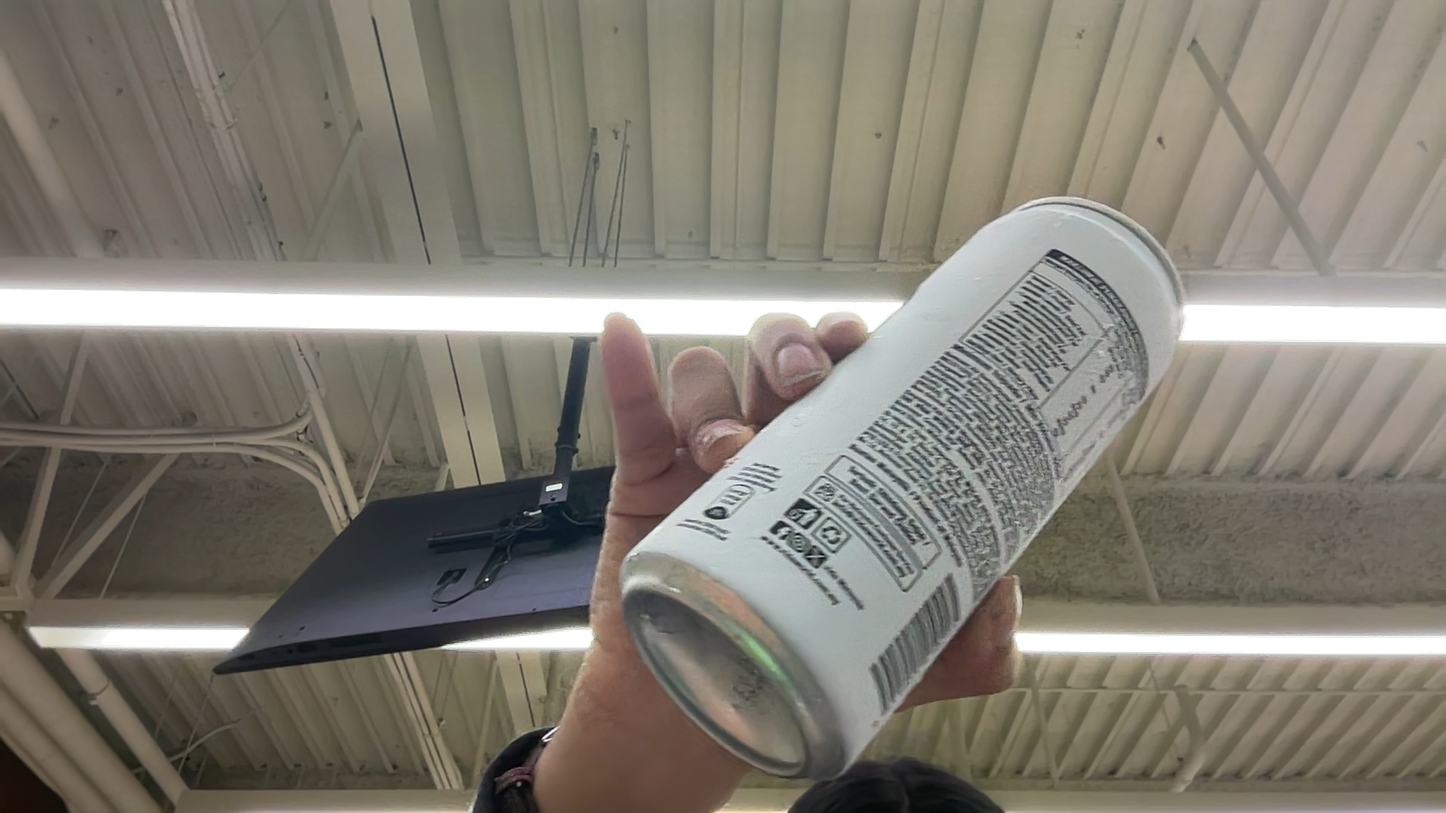Metal: (509, 186, 1250, 780)
